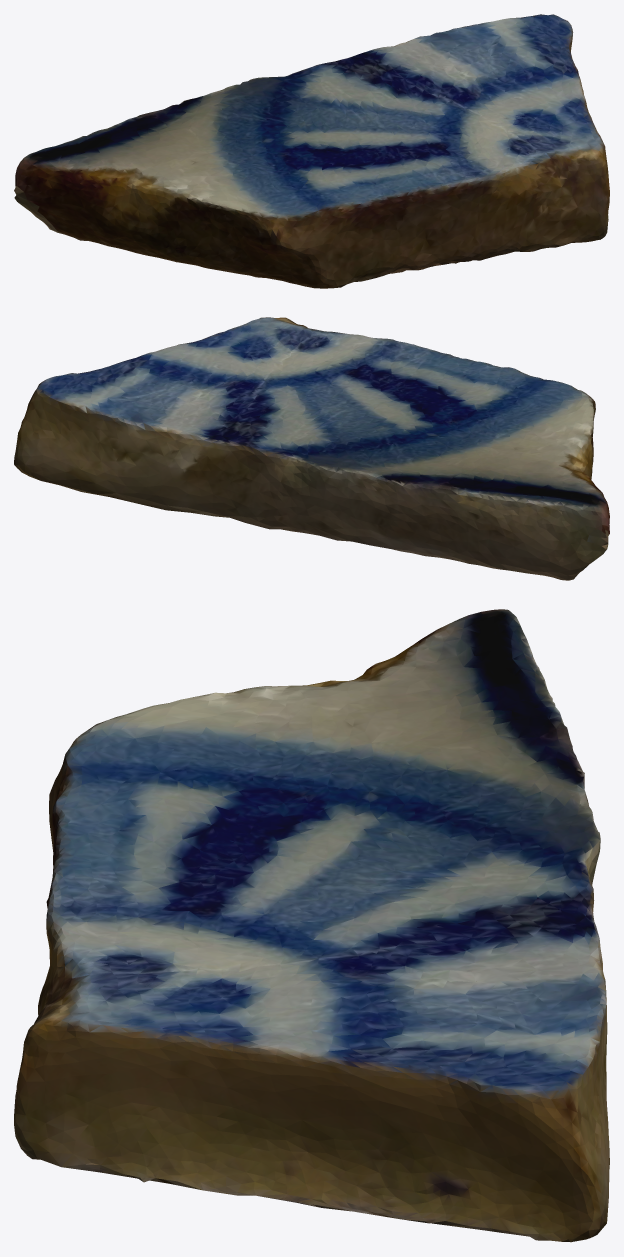
Rendered from Tile.fbx.
3 views of the same model, one above another, from view 1: azimuth 30°, elevation 25°; view 2: azimuth 150°, elevation 25°; view 3: azimuth 270°, elevation 25° (orthographic). The views are drawn at different scales.
Visible parts, largest first — view 1: mesh0; view 2: mesh0; view 3: mesh0.
Boxes of the visible parts, <box> form: mesh0: <box>14,14,609,288</box>; mesh0: <box>14,317,609,580</box>; mesh0: <box>14,609,609,1242</box>.
Bounding box in the file's own units: 6.67 × 1.05 × 3.38.
1 material, 1 textured.
